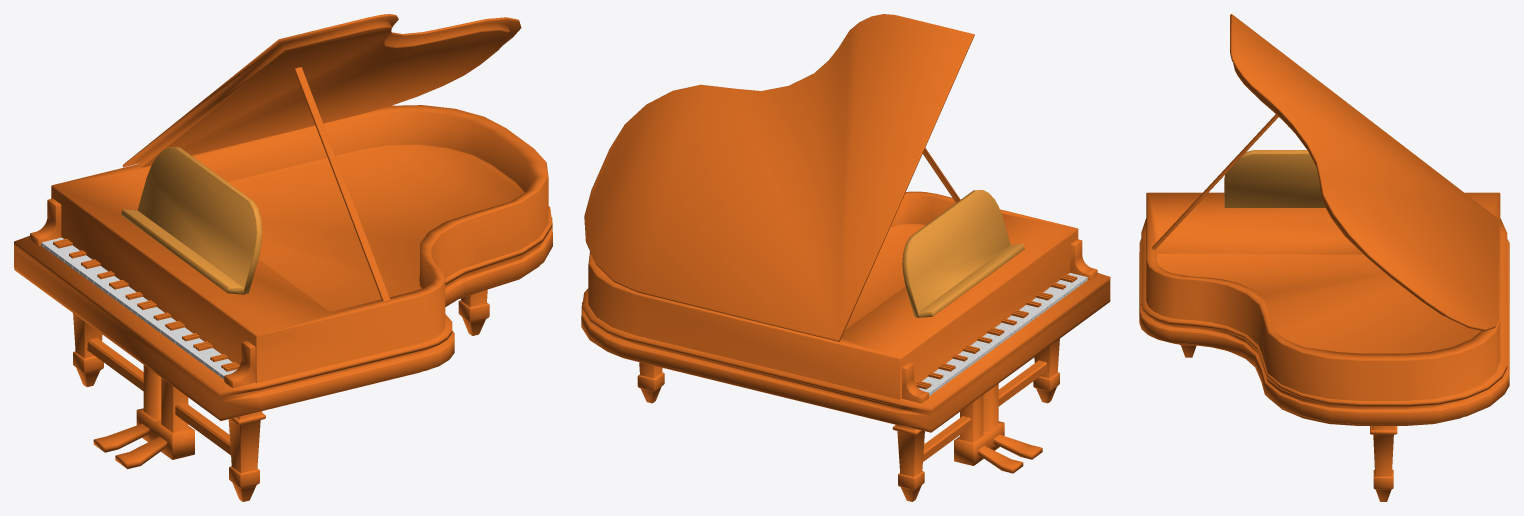
The model's file is Piano.fbx.
3 renders of one model, left to right at view 1: azimuth 30°, elevation 25°; view 2: azimuth 150°, elevation 25°; view 3: azimuth 270°, elevation 25°, orthographic. The views are drawn at different scales.
Visible parts, largest first — view 1: Cube.015; view 2: Cube.015; view 3: Cube.015.
Part boxes in pixels (x1=…): Cube.015: x1=14, y1=14, x2=552, y2=501; Cube.015: x1=581, y1=14, x2=1110, y2=501; Cube.015: x1=1139, y1=14, x2=1509, y2=501.
Bounding box in the file's own units: 140 × 127 × 116.
